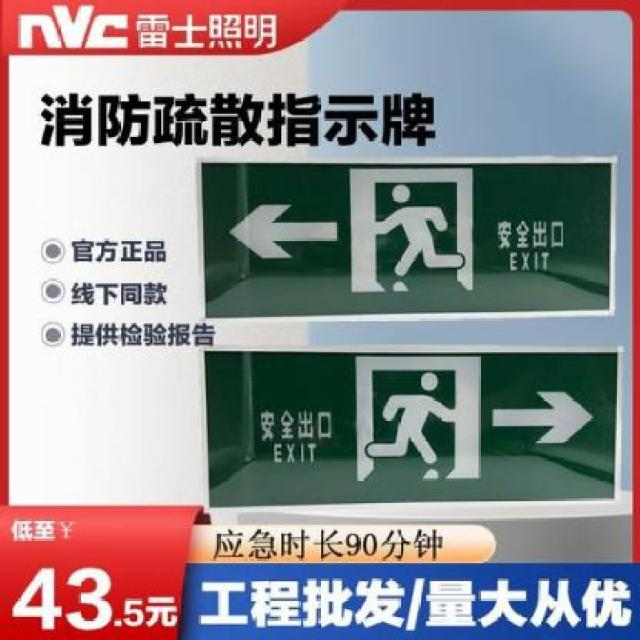exit_sign: (203, 346, 630, 512), (188, 152, 617, 314)
